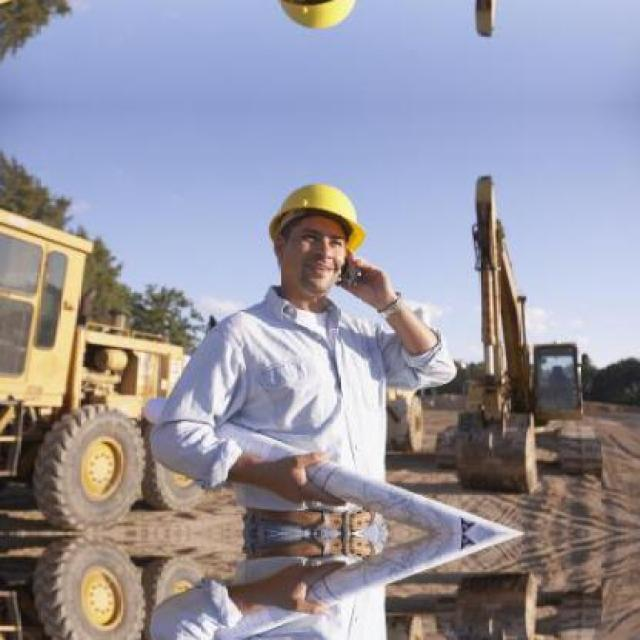helmet: (257, 165, 371, 308), (257, 0, 372, 48)
